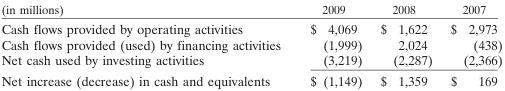table: (0, 1, 501, 88)
table column: (0, 1, 294, 88), (294, 1, 370, 88), (370, 1, 440, 88), (440, 1, 501, 88)
table column header: (0, 1, 501, 18)
table row: (0, 69, 501, 88), (0, 18, 501, 36), (0, 51, 501, 69), (0, 1, 501, 18), (0, 36, 501, 51)
